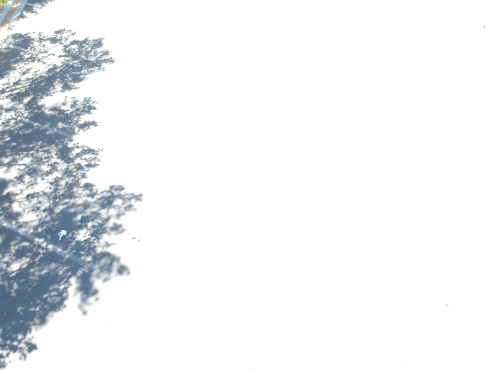plastic bag: (53, 227, 71, 242)
